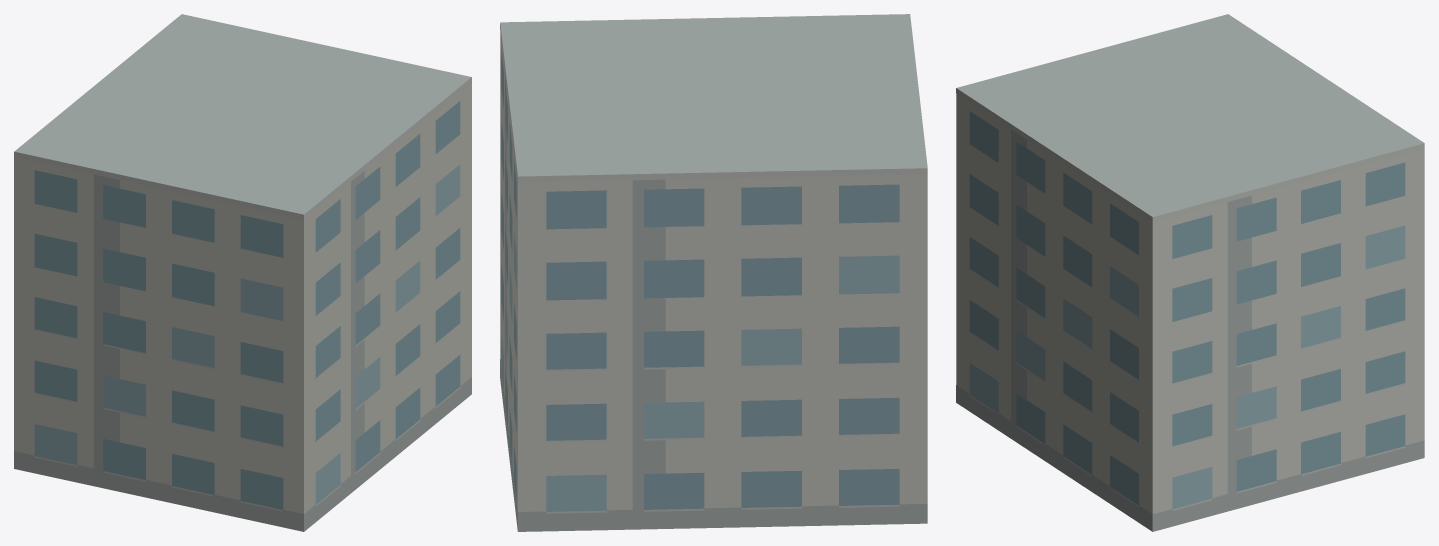
Rendered from residential-11a9e0ae-2a3a-4db2-a886-220215849746.glb.
3 views of the same model, side by side, from view 1: azimuth 30°, elevation 25°; view 2: azimuth 150°, elevation 25°; view 3: azimuth 270°, elevation 25° (orthographic). The views are drawn at different scales.
Parts seen in each view (by area): view 1: residential-11a9e0ae-2a3a-4db2-a886-220215849746.tmp; view 2: residential-11a9e0ae-2a3a-4db2-a886-220215849746.tmp; view 3: residential-11a9e0ae-2a3a-4db2-a886-220215849746.tmp.
Part boxes in pixels (x1,y1,x2,y2): residential-11a9e0ae-2a3a-4db2-a886-220215849746.tmp: (14, 14, 471, 531); residential-11a9e0ae-2a3a-4db2-a886-220215849746.tmp: (500, 14, 927, 531); residential-11a9e0ae-2a3a-4db2-a886-220215849746.tmp: (956, 14, 1424, 531).
Size of the model in its own units: 19.67 by 14.2 by 19.17.
